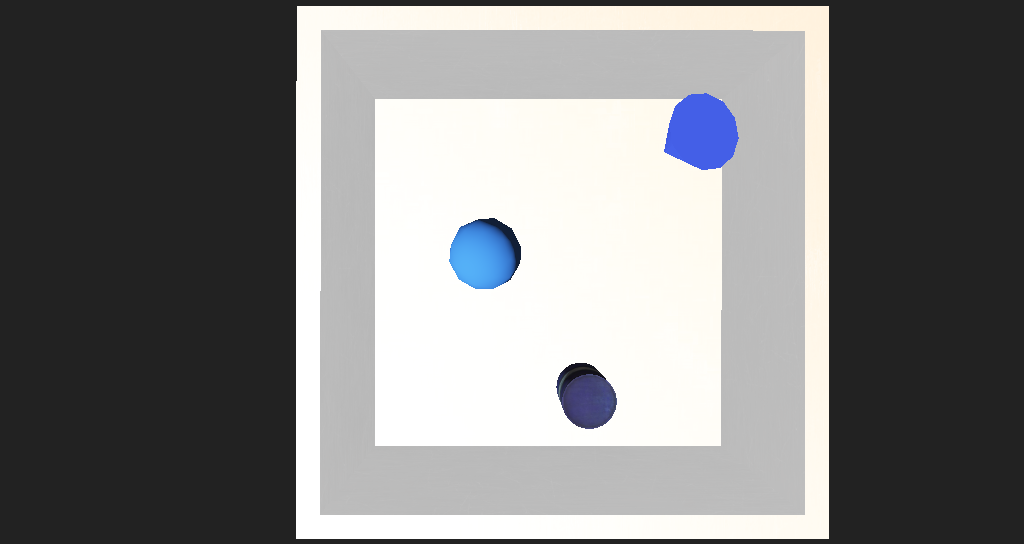cone: (515, 324, 563, 363)
cylinder: (573, 157, 667, 215)
sphere: (421, 236, 482, 279)
